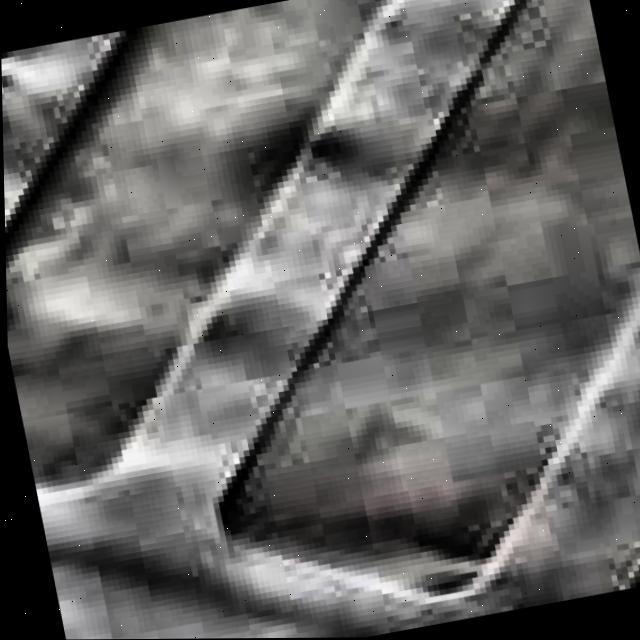paper: (1, 0, 640, 640)
